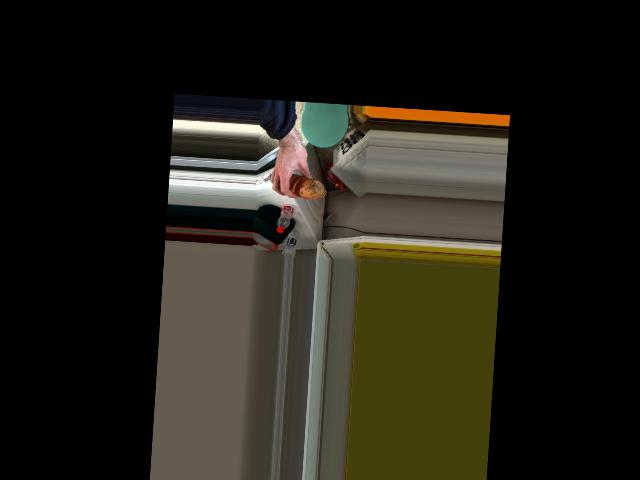sweet_potato: (284, 168, 318, 201)
